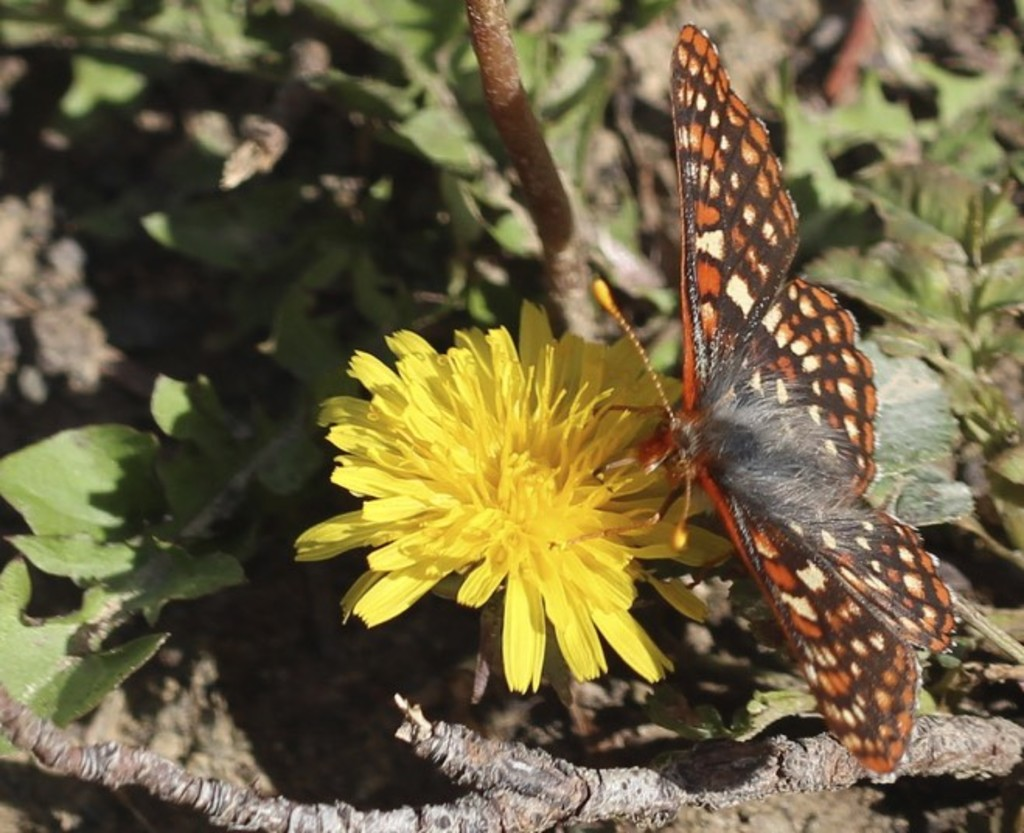Butterfly: (535, 19, 963, 795)
